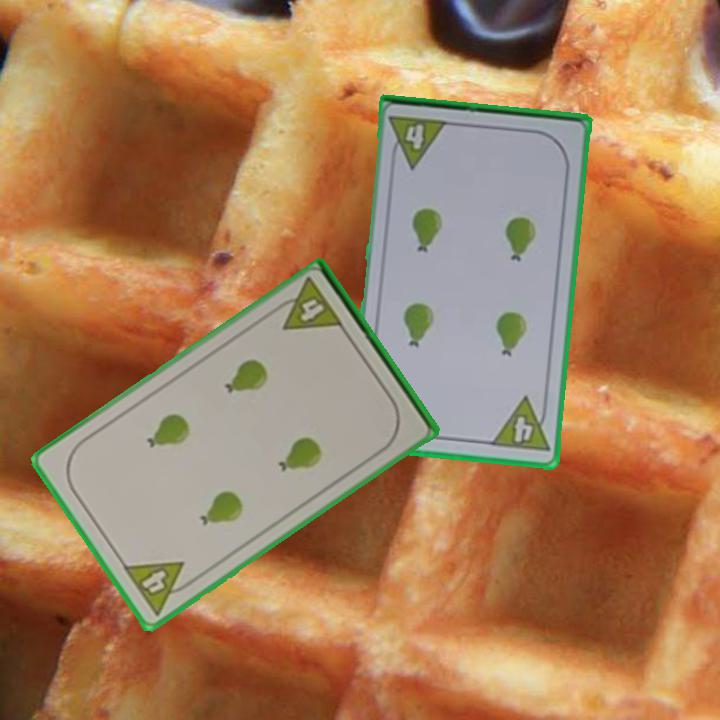4p: (119, 557, 199, 619), (269, 275, 347, 334), (487, 393, 552, 455), (385, 112, 451, 171)
